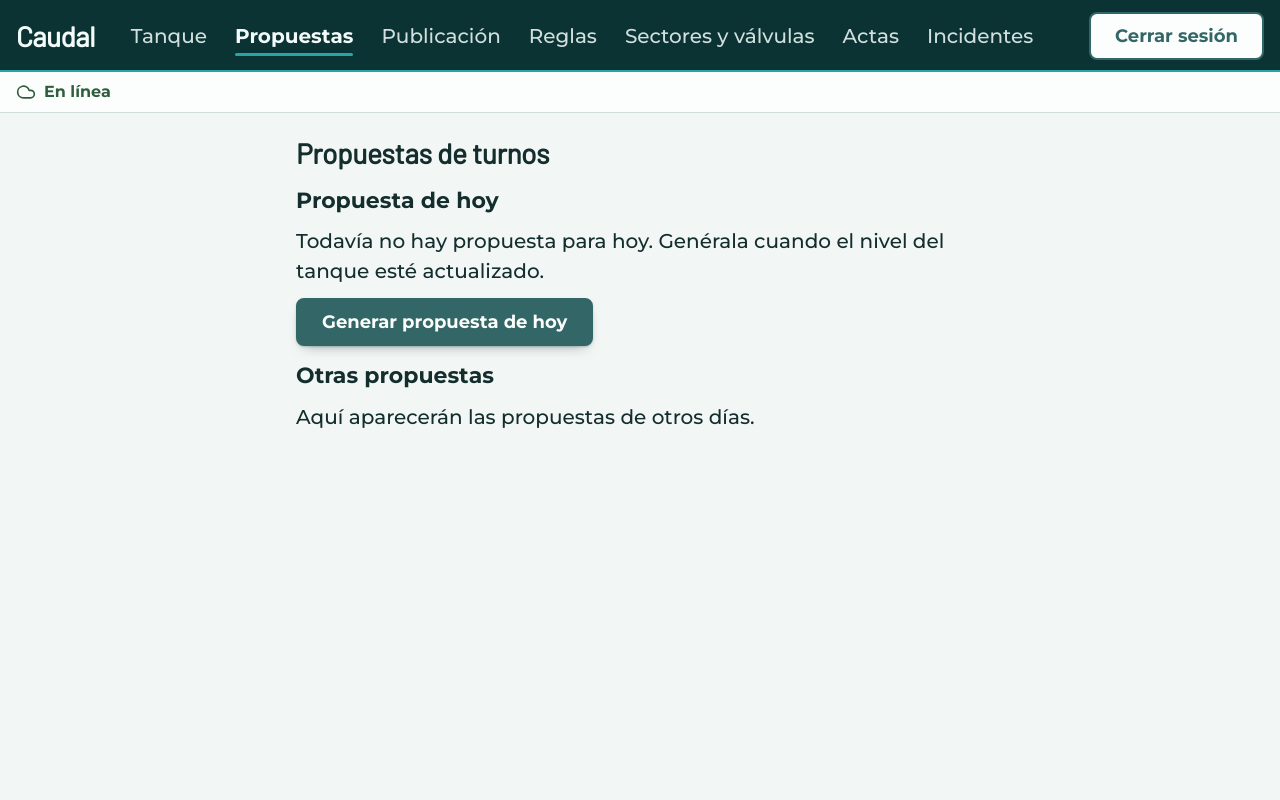
ProposalListPage (S13 list) › offers the main action to generate today proposal when there is none
Click the button "Generar propuesta de hoy" at (445, 322), box [296,298,593,346]
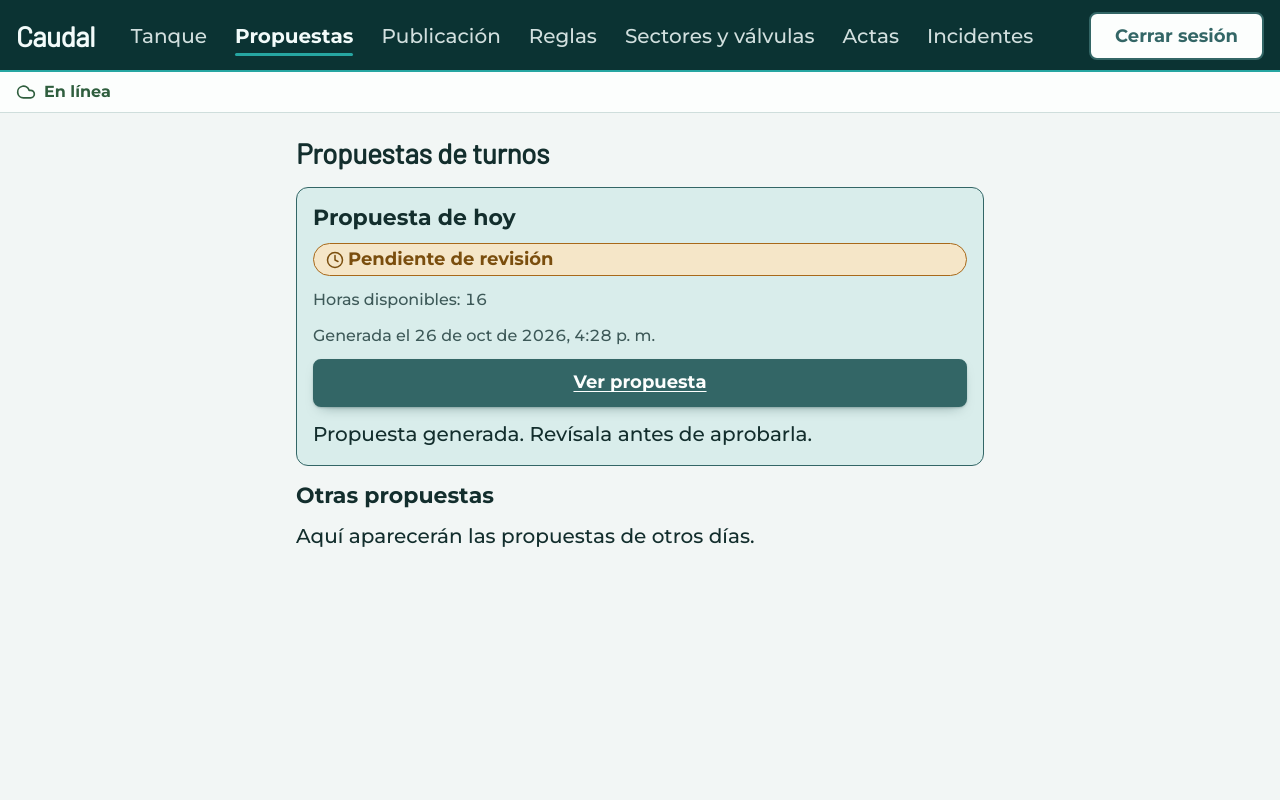
Expected: the text "Propuesta generada. Revísala antes de aprobarla." is shown, [313,422,812,446]
Expected: the text "Pendiente de revisión" is shown, [313,243,967,276]
